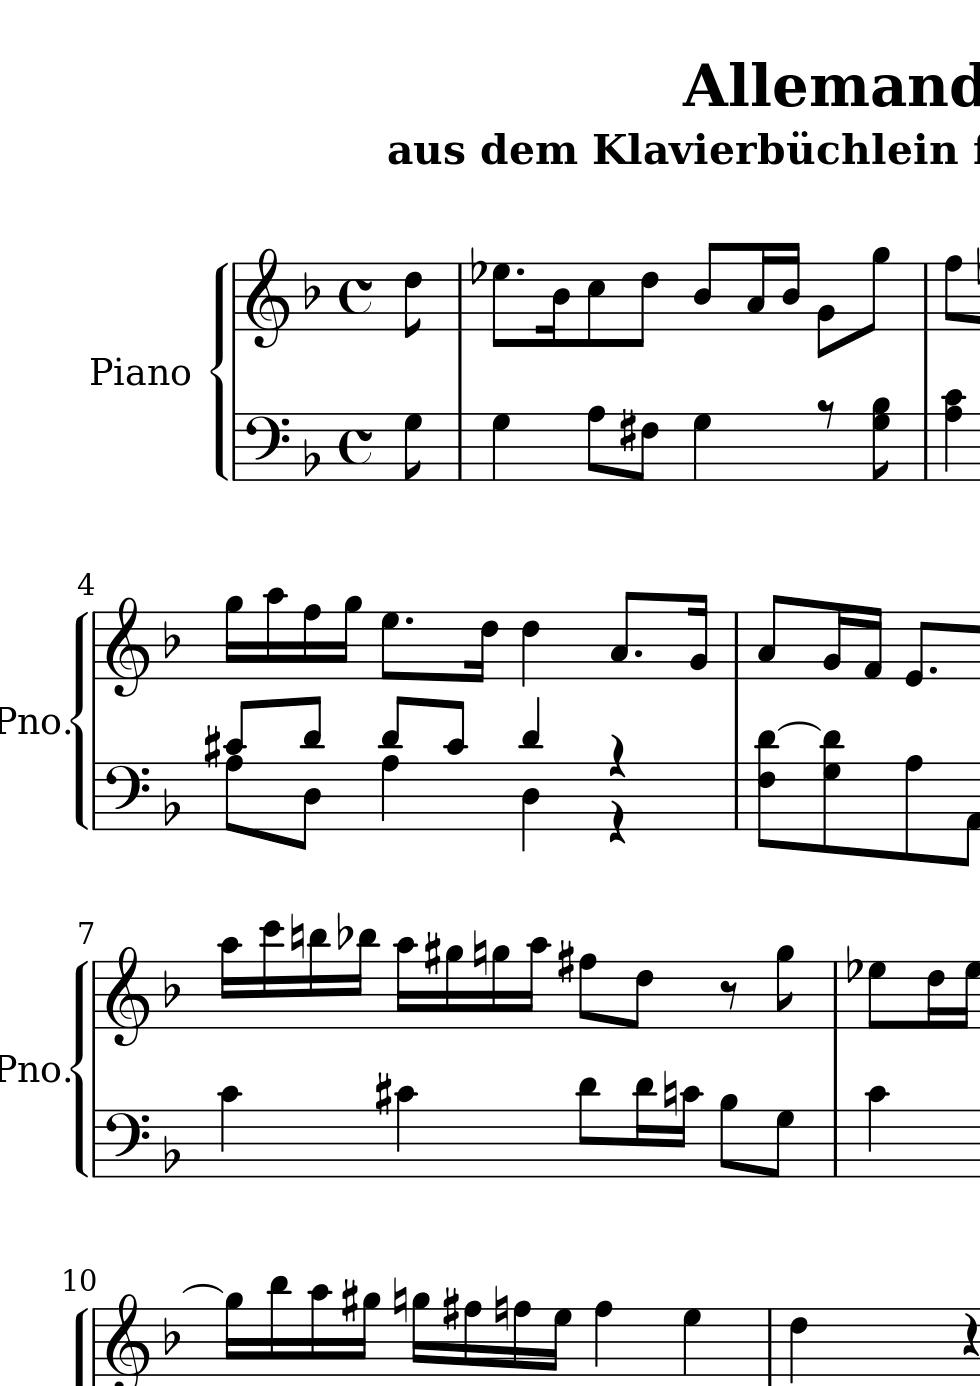0: (77, 1265, 97, 1294)
1: (62, 1266, 76, 1296)
16_1: (861, 606, 883, 682)
16_10: (519, 934, 548, 1032), (673, 1085, 702, 1179), (262, 587, 288, 680), (216, 935, 242, 1031), (307, 1283, 331, 1378), (392, 936, 416, 1031)
16_11: (349, 927, 380, 1031), (266, 1274, 291, 1380), (305, 926, 330, 1031), (632, 1075, 657, 1180)
16_12: (259, 918, 285, 1032)
16_2: (821, 601, 847, 680), (686, 592, 708, 681)
16_3: (743, 242, 772, 332)
16_4: (537, 261, 570, 350), (780, 240, 801, 332)
16_6: (465, 609, 498, 686), (925, 958, 946, 1031)
16_7: (544, 1308, 572, 1376), (955, 958, 979, 1032)
16_8: (300, 603, 321, 680), (511, 1299, 531, 1378), (462, 1299, 482, 1378)
16_9: (333, 594, 361, 680), (353, 1291, 380, 1378), (442, 943, 463, 1031), (489, 944, 510, 1031), (222, 595, 243, 680), (223, 1291, 243, 1378), (409, 1289, 428, 1378)
4: (76, 569, 97, 599)
4_10: (216, 1084, 241, 1179), (864, 1085, 888, 1181), (393, 1086, 417, 1180)
4_4: (519, 762, 540, 853)
4_6: (519, 609, 540, 688), (788, 1306, 808, 1384)
4_7: (490, 413, 512, 483), (692, 413, 713, 483), (681, 1308, 702, 1378)
4_8: (379, 754, 401, 832), (591, 1299, 613, 1378)
7: (77, 918, 95, 946)
8_0: (902, 610, 930, 689)
8_10: (442, 698, 467, 832)
8_11: (576, 1074, 600, 1179)
8_2: (813, 261, 835, 359)
8_3: (607, 591, 638, 681), (756, 593, 784, 681)
8_4: (692, 241, 721, 332)
8_4_11: (292, 694, 327, 850)
8_5: (584, 261, 605, 349)
8_6: (629, 261, 659, 350), (626, 959, 654, 1031), (632, 413, 659, 483), (402, 261, 424, 341)
8_6_11: (754, 729, 780, 850)
8_7: (766, 1108, 794, 1179), (490, 262, 512, 349), (379, 610, 400, 681), (402, 413, 423, 483), (867, 959, 887, 1031)
8_7_11: (818, 729, 843, 856)
8_7_9: (872, 396, 890, 485)
8_8: (902, 752, 924, 865), (942, 252, 966, 332), (576, 952, 598, 1031), (584, 404, 606, 483)
8_8_10: (223, 700, 253, 834), (941, 387, 968, 483)
8_9: (859, 246, 890, 335), (718, 1093, 738, 1180), (774, 945, 794, 1031)
Brace: (69, 957, 90, 1185), (212, 258, 231, 481), (71, 608, 90, 826)
Fclef: (101, 1108, 150, 1180), (101, 761, 150, 832), (243, 410, 290, 483)
Flat: (301, 437, 321, 478), (161, 1134, 181, 1175), (160, 787, 180, 827), (161, 619, 180, 660), (334, 910, 352, 952), (161, 969, 180, 1008), (161, 1315, 180, 1354), (301, 271, 320, 310), (844, 944, 860, 985), (469, 246, 484, 285)
Gclef: (244, 245, 290, 349), (105, 594, 148, 698), (105, 944, 148, 1047), (104, 1291, 148, 1386)
Natural: (470, 927, 488, 979), (390, 1275, 408, 1326), (288, 912, 305, 962), (492, 1283, 509, 1333), (661, 1068, 677, 1117)
Pno: (87, 353, 192, 390), (1, 701, 63, 737), (1, 1049, 62, 1085)
Rests4: (605, 799, 627, 848), (606, 731, 627, 779), (960, 1311, 978, 1357)
Rests8: (718, 978, 740, 1012), (815, 398, 836, 429)
Sharp: (199, 722, 222, 770), (617, 406, 637, 453), (555, 938, 575, 985), (422, 930, 441, 978), (339, 1277, 358, 1324), (373, 1071, 392, 1118), (441, 1285, 459, 1332)
Single_barline: (728, 762, 745, 830), (762, 1309, 778, 1375), (451, 414, 468, 479), (728, 612, 743, 680), (87, 612, 103, 679), (452, 264, 468, 330), (918, 414, 934, 479), (827, 962, 843, 1028), (827, 1110, 843, 1176), (227, 263, 242, 331), (918, 263, 933, 331), (87, 764, 102, 830), (87, 962, 102, 1029), (88, 1110, 103, 1177), (88, 1308, 102, 1376), (228, 414, 242, 481)
Slur: (183, 1283, 222, 1295), (778, 721, 818, 732)
TimeSig: (337, 260, 375, 332), (337, 413, 374, 483), (339, 413, 371, 483)
dot: (402, 614, 415, 628), (926, 663, 939, 676), (513, 265, 525, 279), (631, 646, 643, 660)
